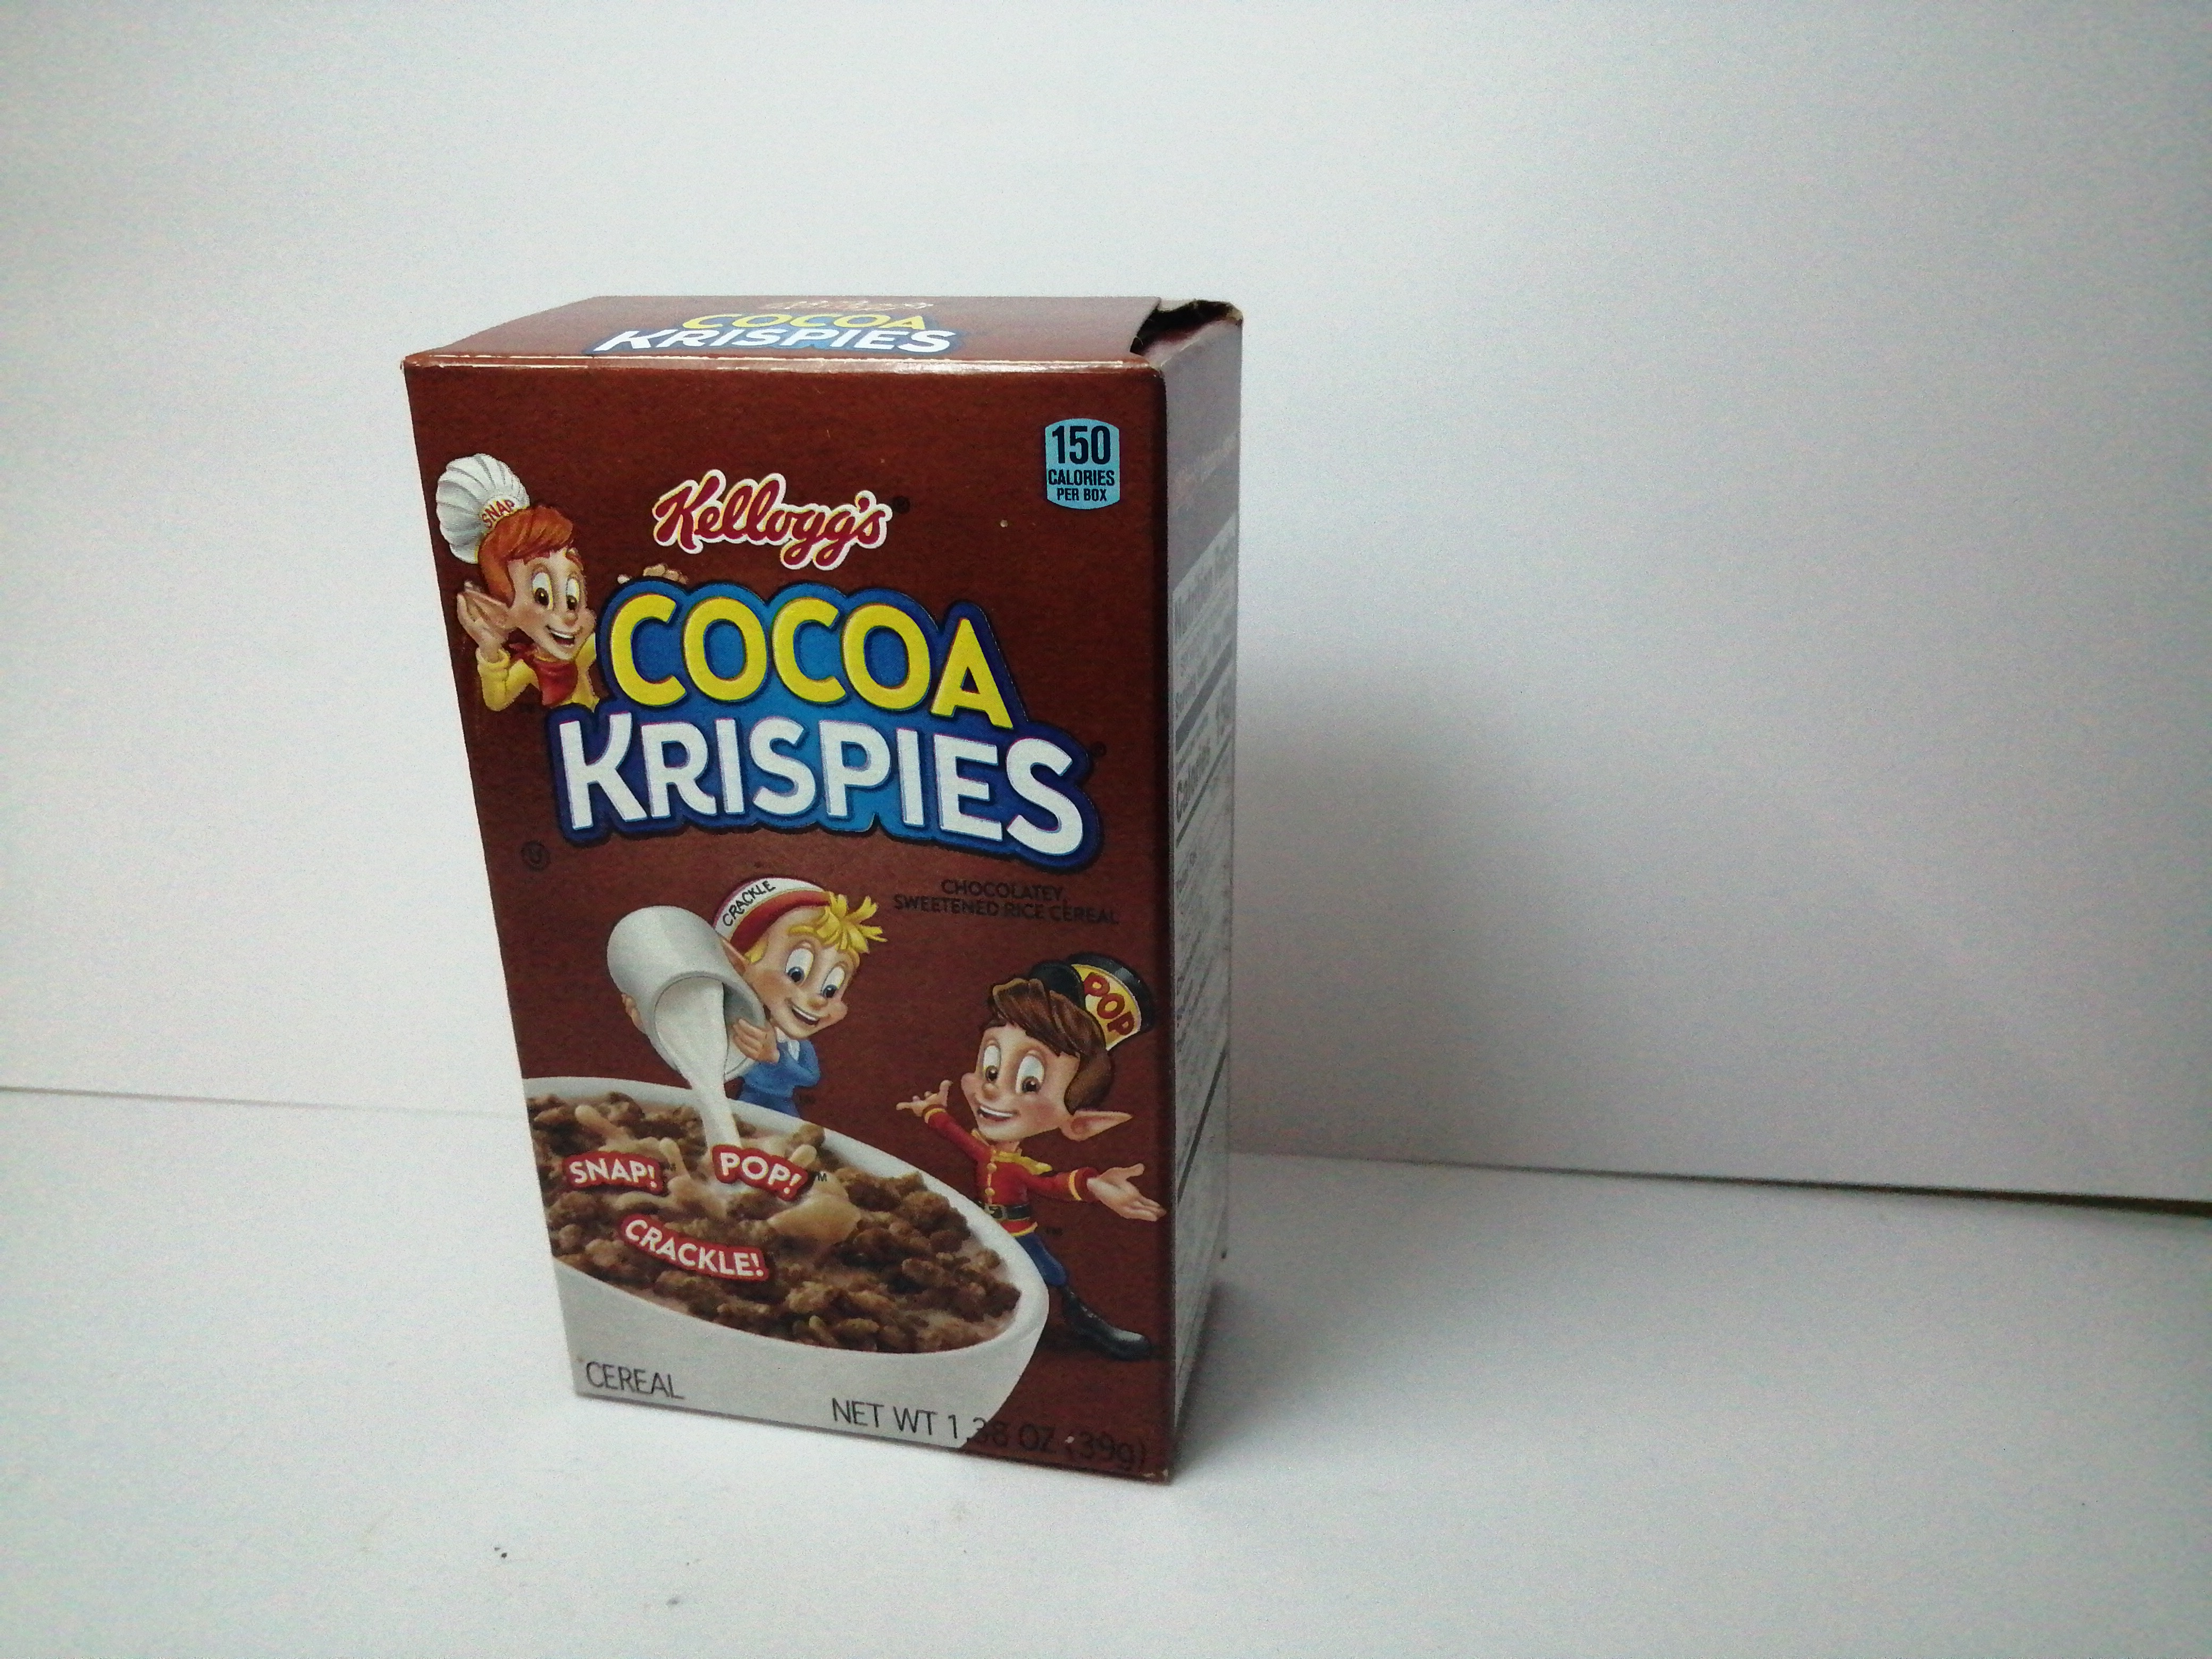cereal chocolate: (395, 274, 1291, 1483)
